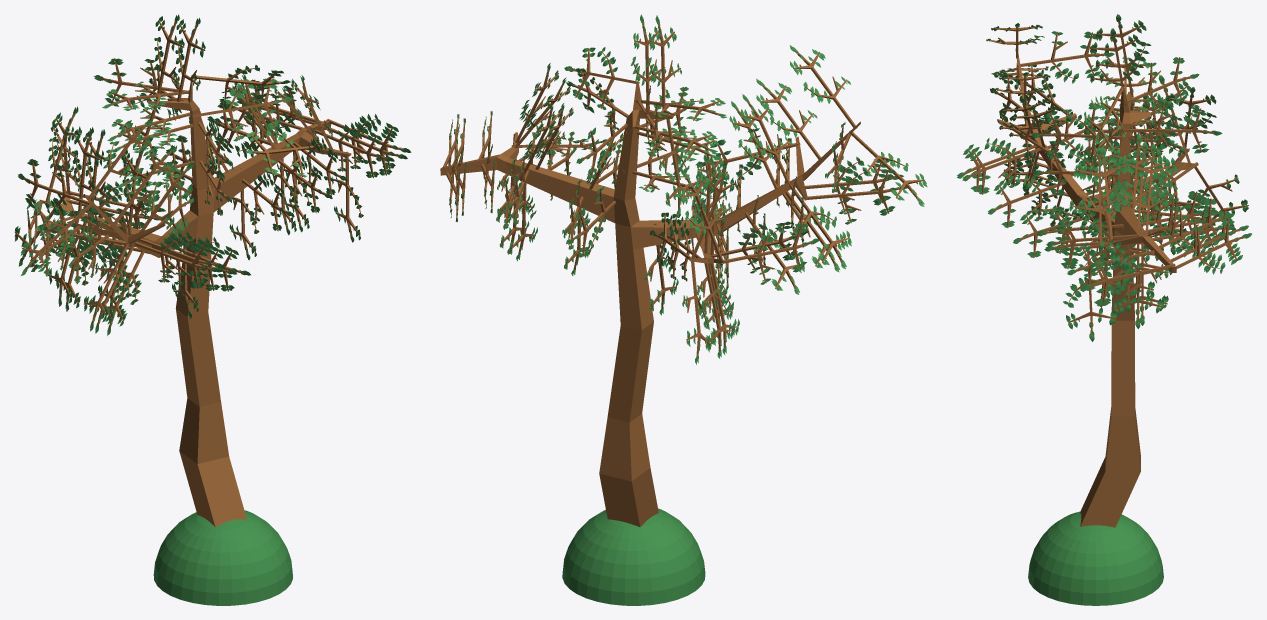
Rendered from tree.fbx.
3 renders of one model, left to right at view 1: azimuth 30°, elevation 25°; view 2: azimuth 150°, elevation 25°; view 3: azimuth 270°, elevation 25°, orthographic. The views are drawn at different scales.
Visible parts, largest first — view 1: Cube; view 2: Cube; view 3: Cube.
Boxes of the visible parts, <box> form: Cube: <box>14,14,411,605</box>; Cube: <box>440,14,927,605</box>; Cube: <box>957,14,1251,605</box>.
Size of the model in its own units: 701 by 888 by 436.
